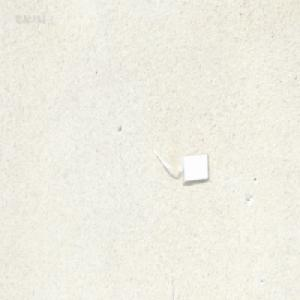LuggageTag: (153, 151, 209, 184)
